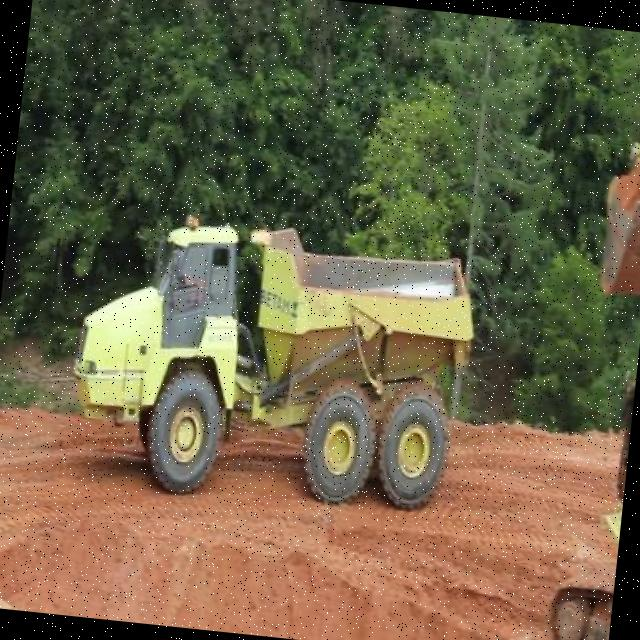Dump Truck: (61, 204, 482, 518)
Excavator: (543, 28, 640, 640)
